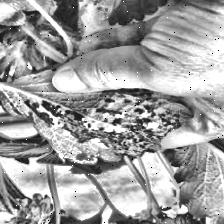Angular Leafspot: (0, 68, 196, 166)
